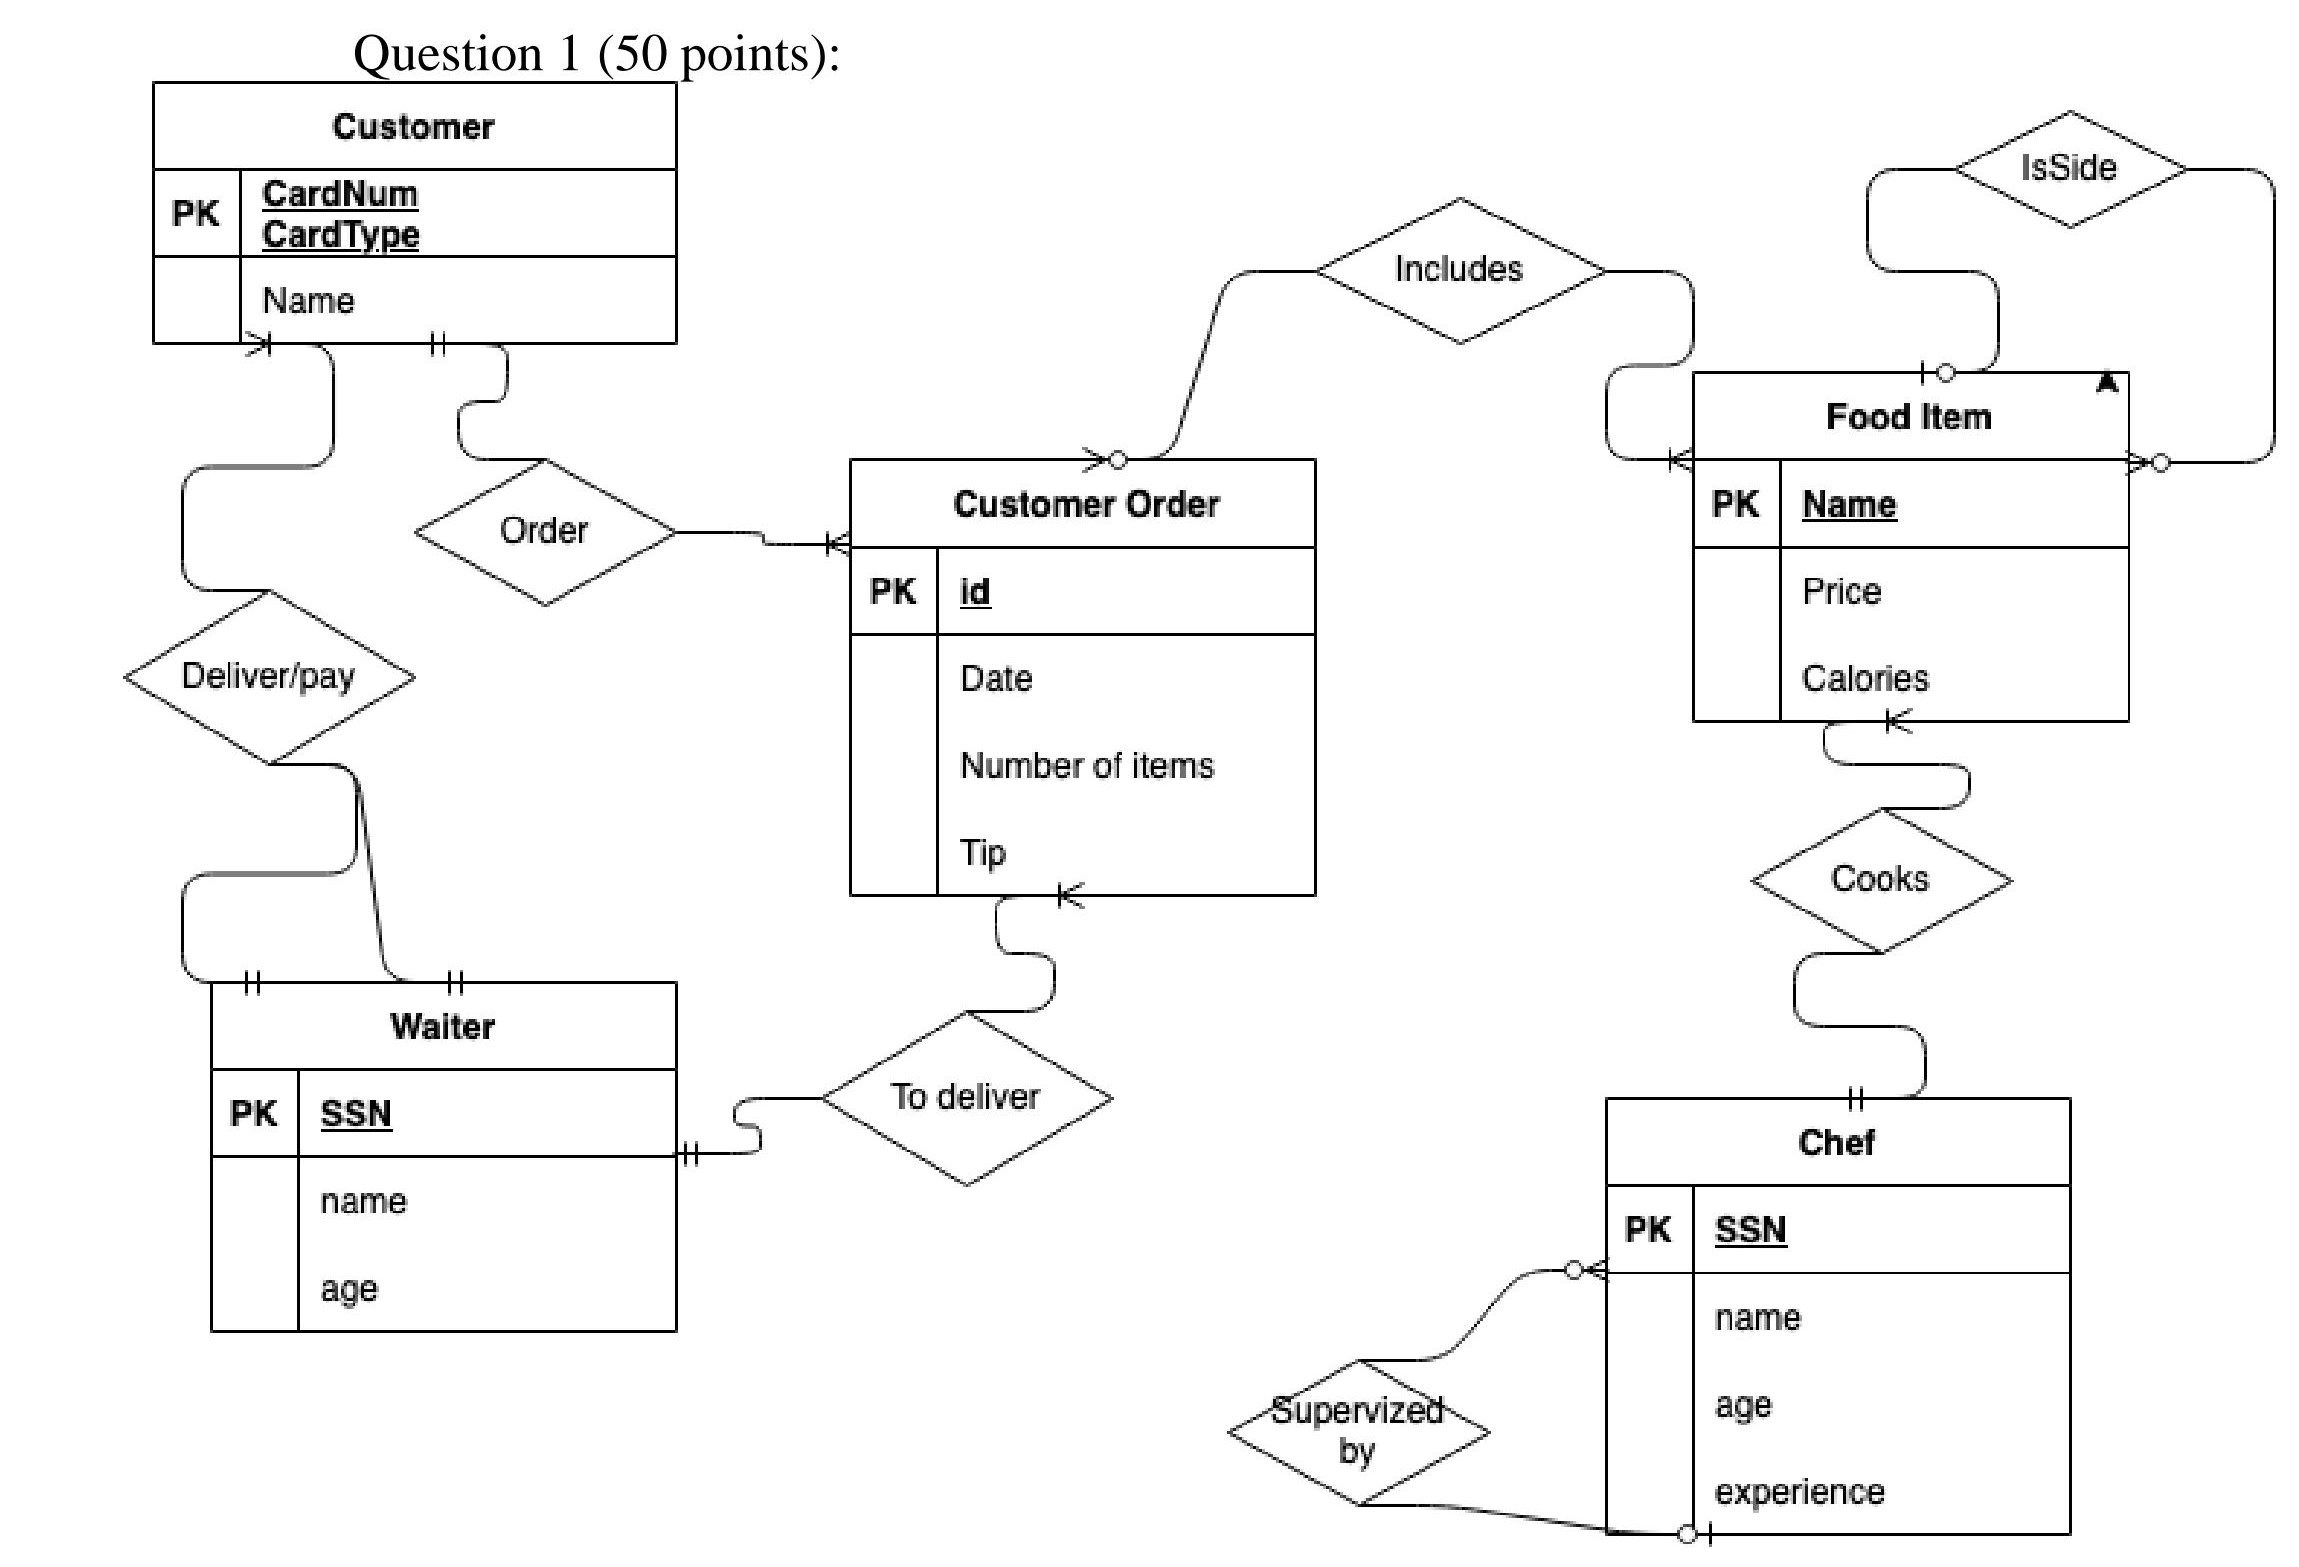Entity: (847, 454, 1321, 900), (1602, 1095, 2075, 1537), (206, 980, 680, 1336), (1691, 369, 2131, 727), (148, 79, 681, 348)
Relationship: (124, 587, 416, 767), (823, 1011, 1115, 1190), (1315, 197, 1607, 344), (1749, 809, 2016, 954), (414, 459, 678, 606), (1226, 1363, 1490, 1506), (1955, 112, 2184, 231)
